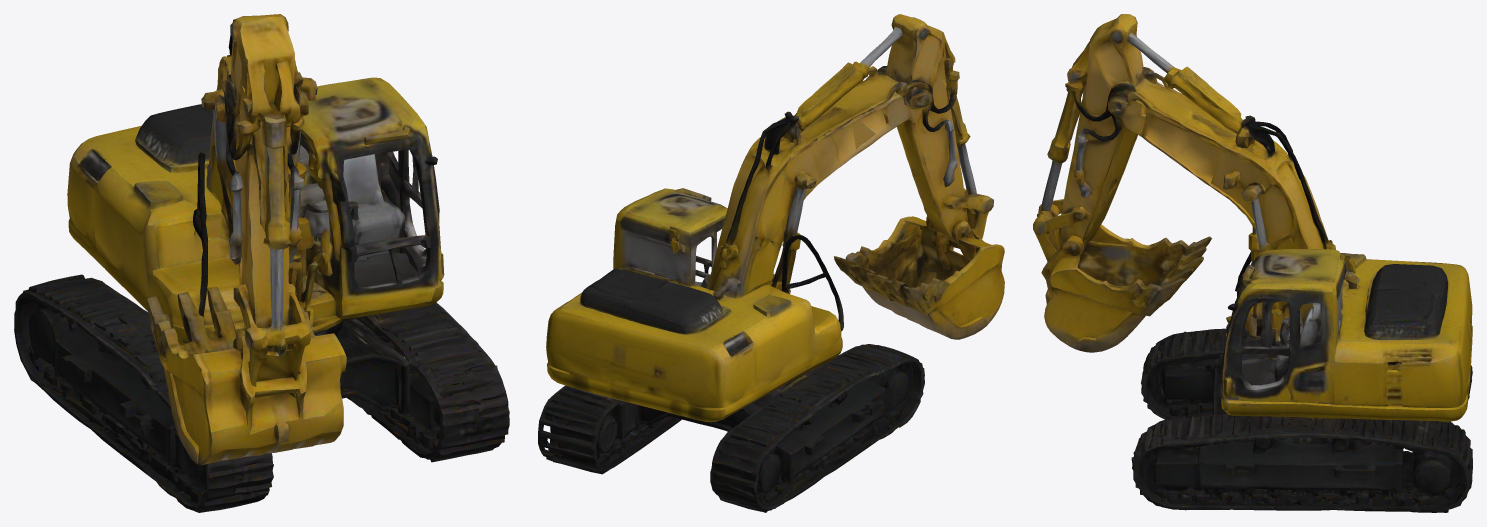
Rendered from parts.glb.
3 renders of one model, left to right at view 1: azimuth 30°, elevation 25°; view 2: azimuth 150°, elevation 25°; view 3: azimuth 270°, elevation 25°, orthographic. The views are drawn at different scales.
Bounding box in the file's own units: 0.32 × 0.4265 × 0.4312.
Materials: 9 (9 with a texture image).
